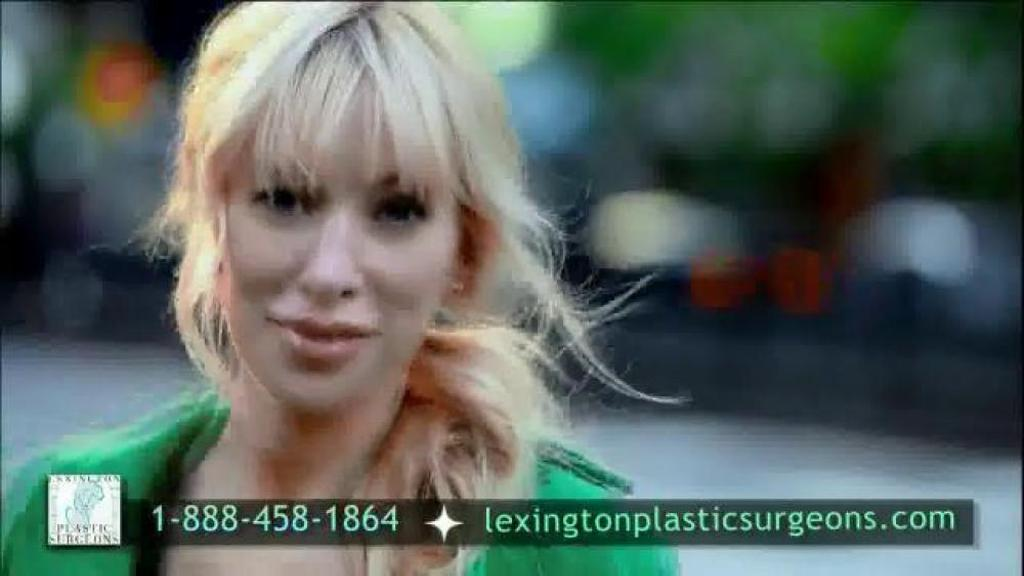face: (222, 70, 456, 420)
